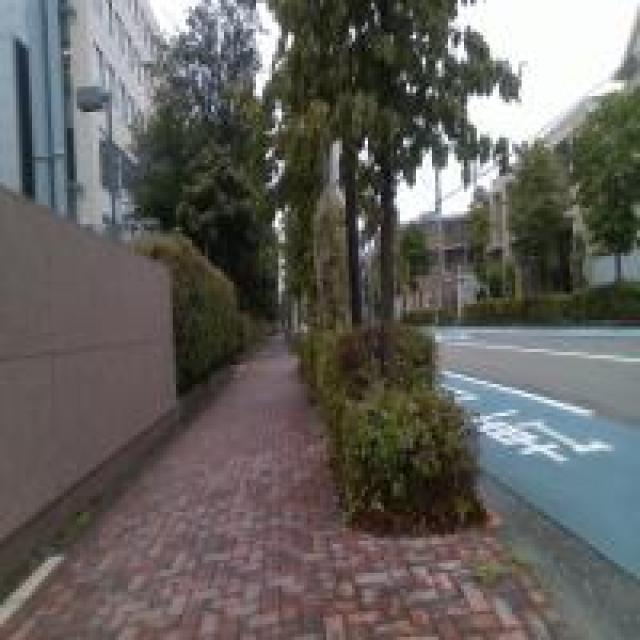Obstacle: (298, 321, 484, 533)
Road: (436, 329, 639, 639)
Sidewalk: (0, 347, 558, 639)
